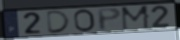2: (23, 11, 46, 36), (151, 4, 173, 29)
D: (46, 9, 73, 34)
M: (120, 5, 152, 31)
O: (73, 8, 97, 33)
P: (96, 7, 123, 32)
